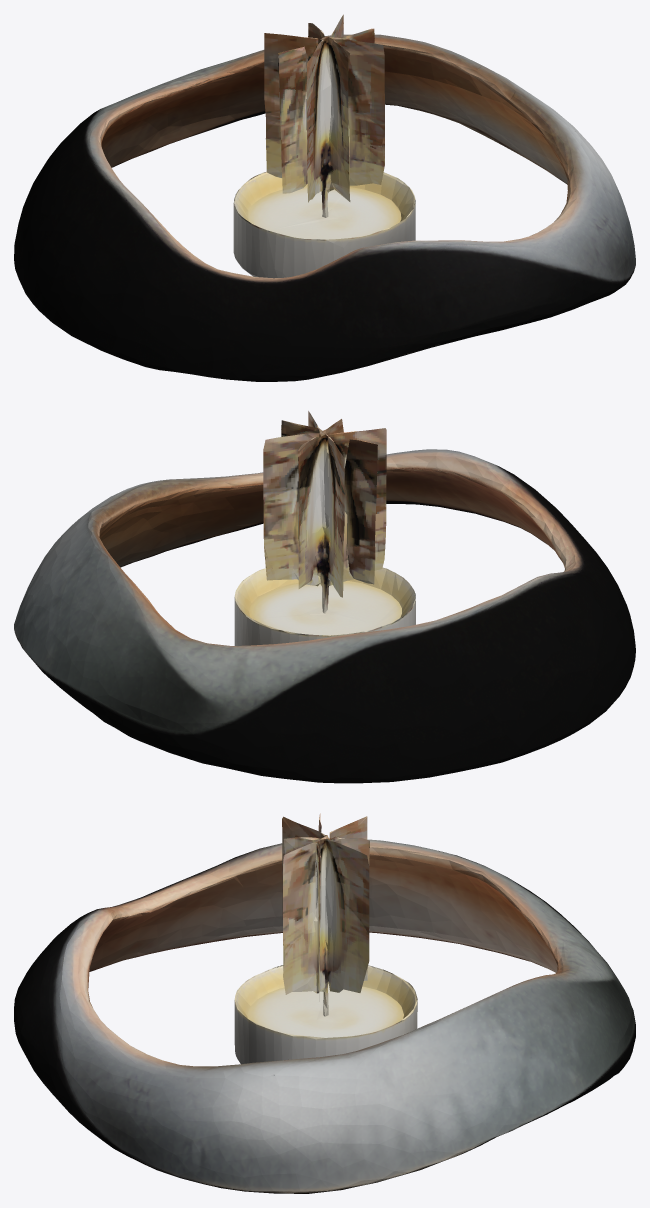
File: clay-candle-holder-futuristic.jpeg.glb
3 views of the same model, one above another, from view 1: azimuth 30°, elevation 25°; view 2: azimuth 150°, elevation 25°; view 3: azimuth 270°, elevation 25° (orthographic).
Visible parts, largest first — view 1: world; view 2: world; view 3: world.
Boxes of the visible parts, x1=… form: world: x1=14, y1=14, x2=635, y2=381; world: x1=14, y1=411, x2=635, y2=783; world: x1=14, y1=813, x2=635, y2=1193.
Bounding box in the file's own units: 1 × 0.4073 × 0.997.
1 material, 1 textured.
